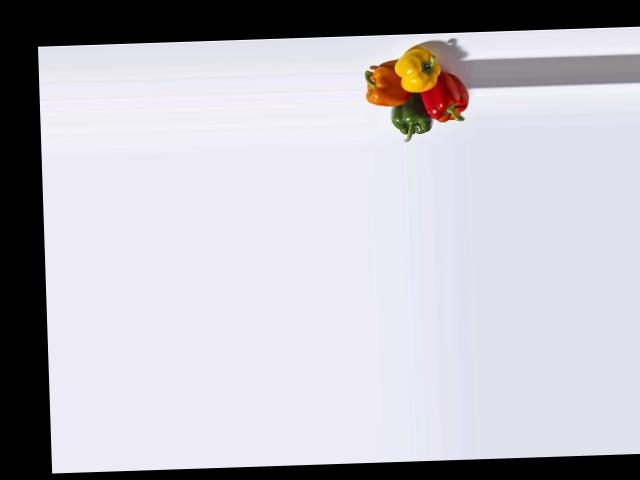bell_pepper: (420, 71, 471, 127)
